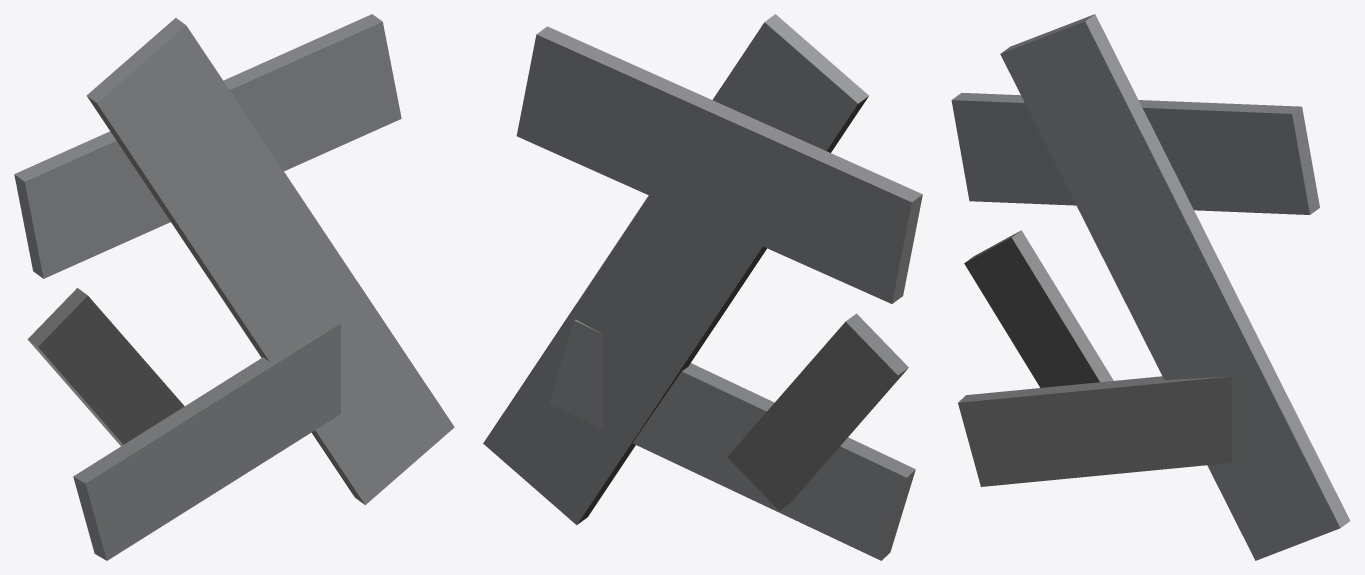
3 views of the same model, side by side, from view 1: azimuth 30°, elevation 25°; view 2: azimuth 150°, elevation 25°; view 3: azimuth 330°, elevation 25° (orthographic). The views are drawn at different scales.
Size of the model in its own units: 0.8049 by 0.9602 by 0.1249.
